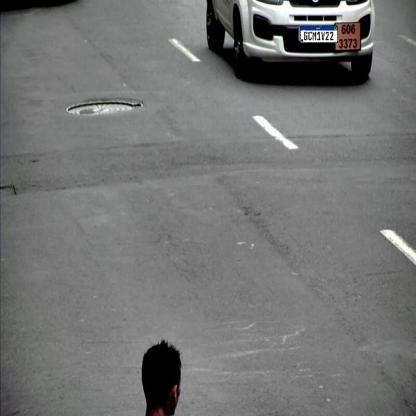PlacaM: (300, 26, 338, 43)
